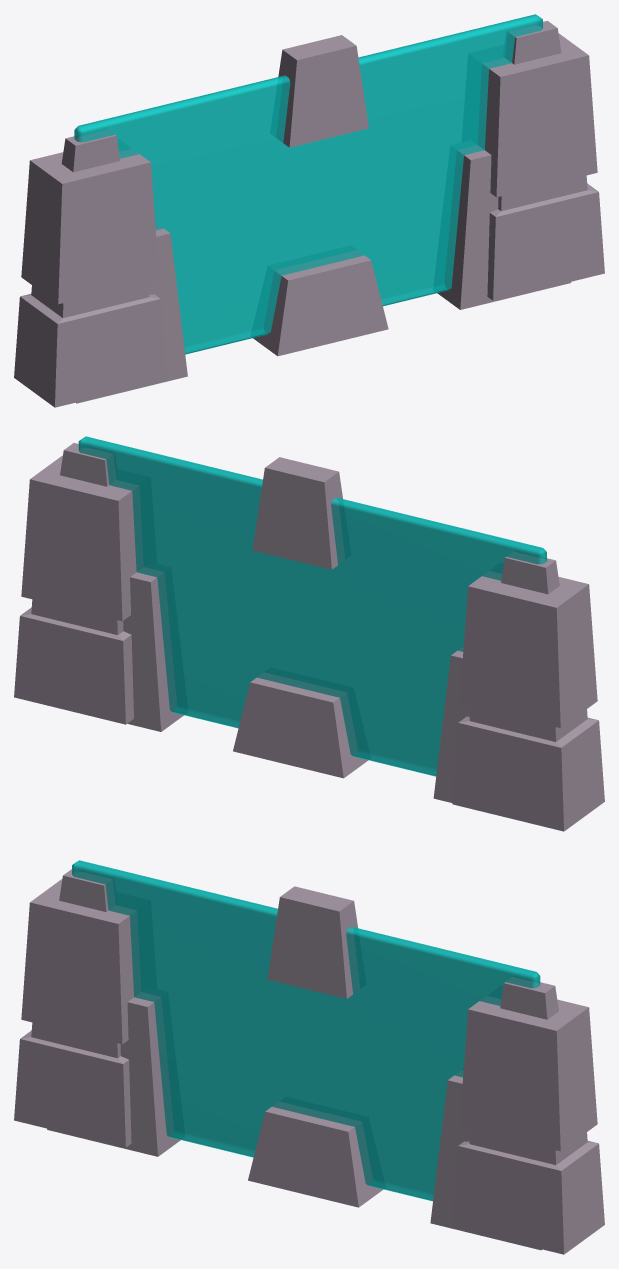
File: Barreira.fbx
3 views of the same model, one above another, from view 1: azimuth 30°, elevation 25°; view 2: azimuth 150°, elevation 25°; view 3: azimuth 330°, elevation 25° (orthographic).
Visible parts, largest first — view 1: pCube86; view 2: pCube86; view 3: pCube86.
Boxes of the visible parts, x1,y1,x2,y2 form: pCube86: (14,14,604,407); pCube86: (14,436,604,831); pCube86: (14,860,604,1254).
Size of the model in its own units: 299 by 148 by 38.5.
